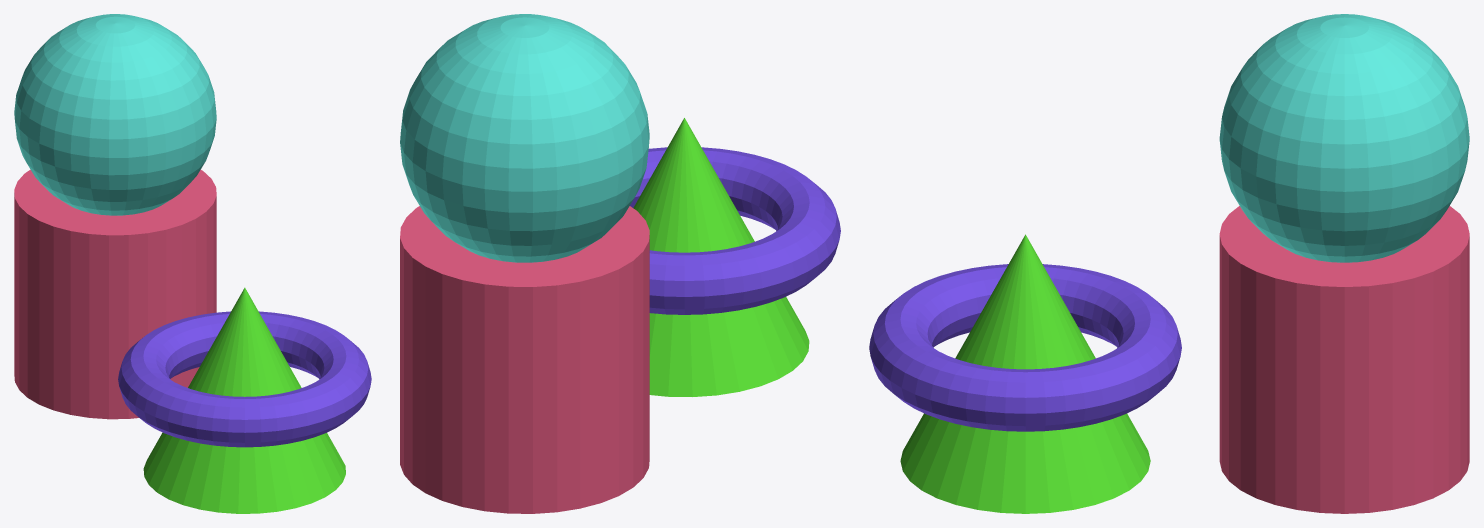
File: torus_and_cone.glb
The picture shows the model from 3 angles, left to right: view 1: azimuth 30°, elevation 25°; view 2: azimuth 150°, elevation 25°; view 3: azimuth 270°, elevation 25°; orthographic projection. The views are drawn at different scales.
Parts seen in each view (by area): view 1: Cylinder, Sphere, Torus, Cone; view 2: Cylinder, Sphere, Cone, Torus; view 3: Cylinder, Sphere, Torus, Cone.
Part boxes in pixels (<box>): Cylinder: <box>14,169,216,419</box>; Sphere: <box>14,14,216,215</box>; Torus: <box>118,311,371,447</box>; Cone: <box>143,287,345,513</box>; Cylinder: <box>400,206,649,513</box>; Sphere: <box>400,14,649,262</box>; Cone: <box>633,118,809,396</box>; Torus: <box>630,147,840,314</box>; Cylinder: <box>1219,206,1469,513</box>; Sphere: <box>1219,14,1469,262</box>; Torus: <box>869,264,1181,431</box>; Cone: <box>900,234,1150,513</box>.
Size of the model in its own units: 2.5 by 3.84 by 4.8.
